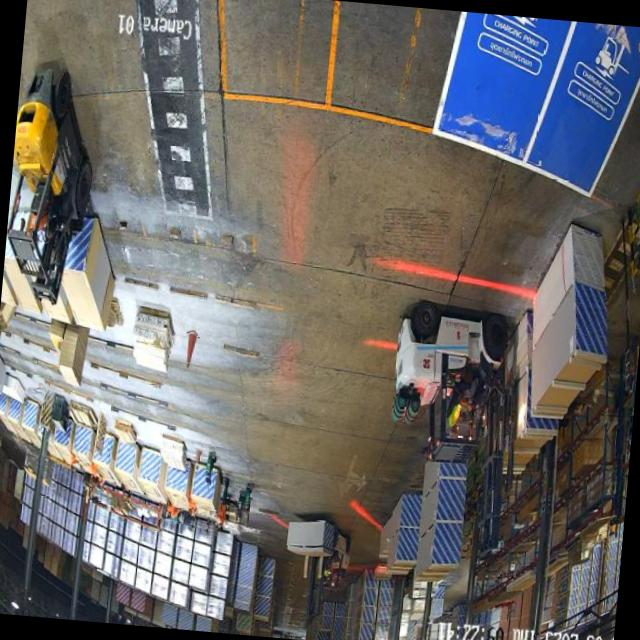driver: (445, 369, 479, 442)
forklift: (3, 55, 105, 280), (383, 292, 512, 463), (312, 524, 354, 600)
person: (216, 474, 230, 532)
